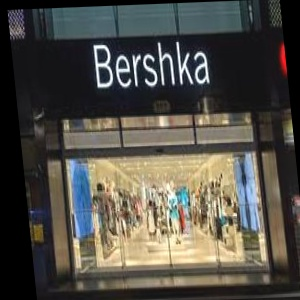bershka: (168, 18, 250, 55)
